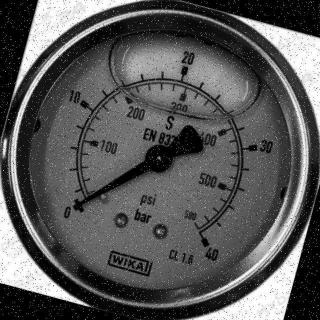gauge: (0, 0, 320, 320), (52, 186, 96, 230), (190, 228, 222, 264), (143, 144, 173, 174), (69, 198, 85, 214)
